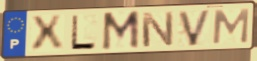L: (69, 14, 98, 51)
M: (101, 10, 142, 53), (211, 8, 252, 45)
N: (140, 11, 175, 49)
V: (176, 8, 214, 48)
X: (29, 14, 66, 54)
